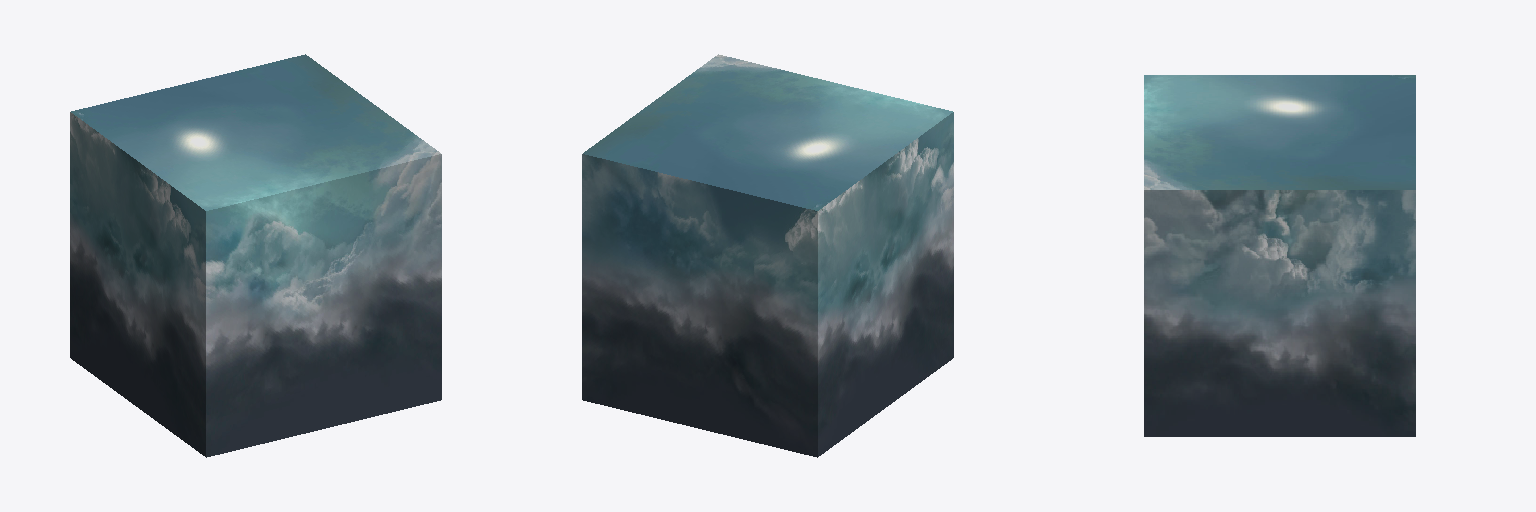
3 renders of one model, left to right at view 1: azimuth 30°, elevation 25°; view 2: azimuth 150°, elevation 25°; view 3: azimuth 270°, elevation 25°, orthographic.
Parts seen in each view (by area): view 1: Box001; view 2: Box001; view 3: Box001.
Boxes of the visible parts, box(x1,y1,x2,y2) form: Box001: box(70, 54, 441, 457); Box001: box(582, 54, 953, 457); Box001: box(1144, 75, 1415, 436).
Size of the model in its own units: 100 by 100 by 100.
1 materials, 1 textured.